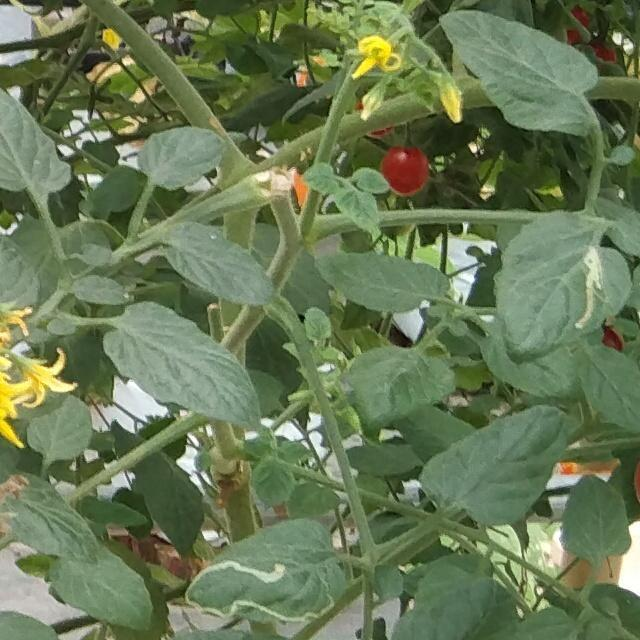Healthy: (98, 292, 263, 434), (436, 7, 607, 139), (414, 401, 572, 531), (156, 213, 280, 310), (47, 542, 157, 632), (308, 247, 453, 314), (559, 468, 634, 569), (129, 123, 229, 191), (25, 393, 93, 459)
Leaf_Miner: (489, 196, 634, 370), (178, 511, 357, 628)
